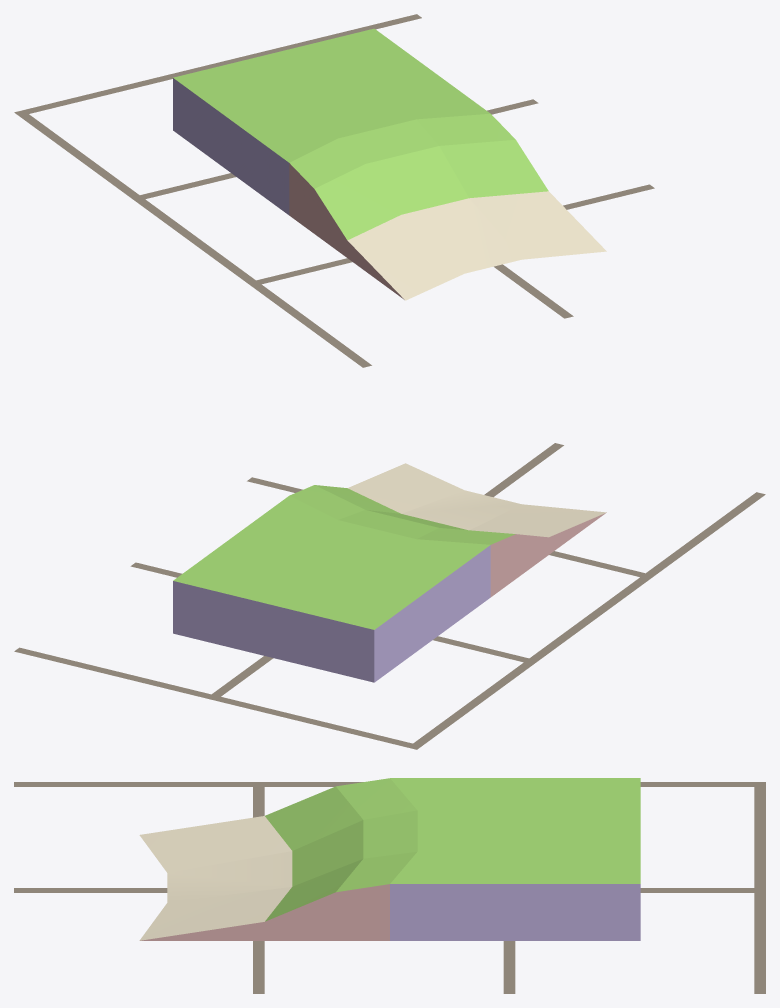
The model's file is Path_Terrain_Deformed_Straight_Concave_1x2.glb.
The picture shows the model from 3 angles, top to bottom: view 1: azimuth 30°, elevation 25°; view 2: azimuth 150°, elevation 25°; view 3: azimuth 270°, elevation 25°; orthographic projection. The views are drawn at different scales.
Parts seen in each view (by area): view 1: Path_Terrain_Deformed_Straight_Concave_1x2, Floor; view 2: Path_Terrain_Deformed_Straight_Concave_1x2, Floor; view 3: Path_Terrain_Deformed_Straight_Concave_1x2, Floor.
Part boxes in pixels (<box>): Path_Terrain_Deformed_Straight_Concave_1x2: <box>173,28,606,300</box>; Floor: <box>14,14,654,367</box>; Path_Terrain_Deformed_Straight_Concave_1x2: <box>173,463,606,682</box>; Floor: <box>14,443,765,749</box>; Path_Terrain_Deformed_Straight_Concave_1x2: <box>139,778,640,940</box>; Floor: <box>14,782,765,993</box>.
Bounding box in the file's own units: 200 × 25 × 300.
Materials: 6 (1 with a texture image).
